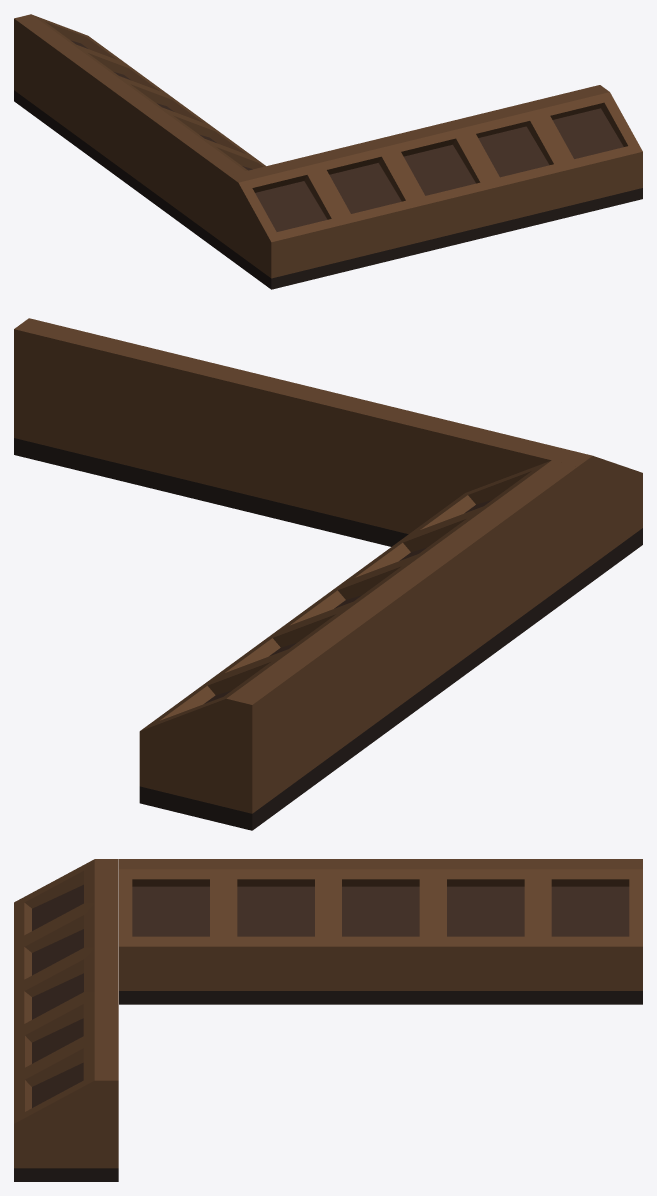
The model's file is bacsBois_corner2.fbx.
3 views of the same model, one above another, from view 1: azimuth 30°, elevation 25°; view 2: azimuth 150°, elevation 25°; view 3: azimuth 270°, elevation 25° (orthographic). The views are drawn at different scales.
Visible parts, largest first — view 1: Cube.008; view 2: Cube.008; view 3: Cube.008.
Boxes of the visible parts, x1,y1,x2,y2 form: Cube.008: (14,14,642,289); Cube.008: (14,318,642,830); Cube.008: (14,859,642,1181).
Bounding box in the file's own units: 500 × 107 × 600.
